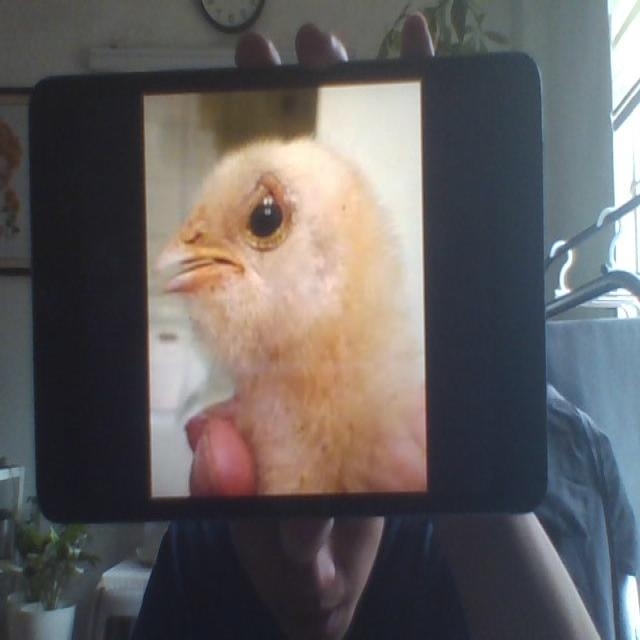Sick: (162, 137, 418, 492)
